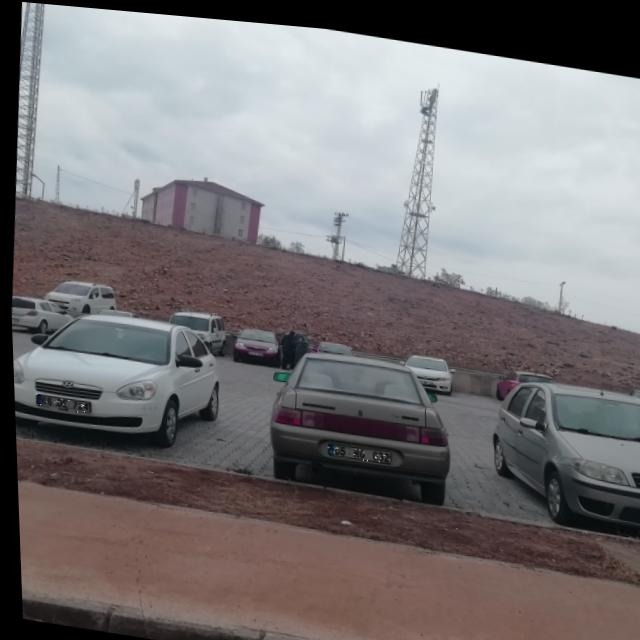license_plate: (324, 438, 388, 457), (32, 392, 88, 412)
